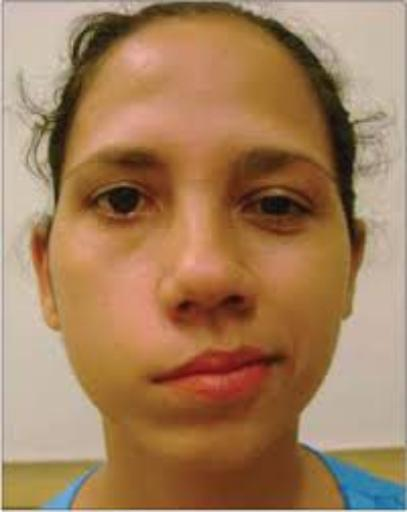left_eye: (239, 194, 314, 227)
left_lip_corner: (265, 345, 292, 373)
right_eye: (87, 187, 162, 226)
right_lip_corner: (134, 368, 171, 393)
